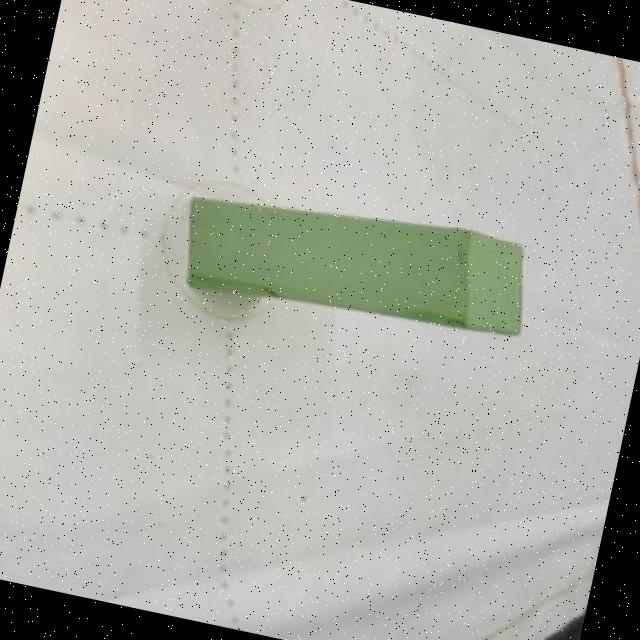greenbox: (170, 172, 541, 350)
